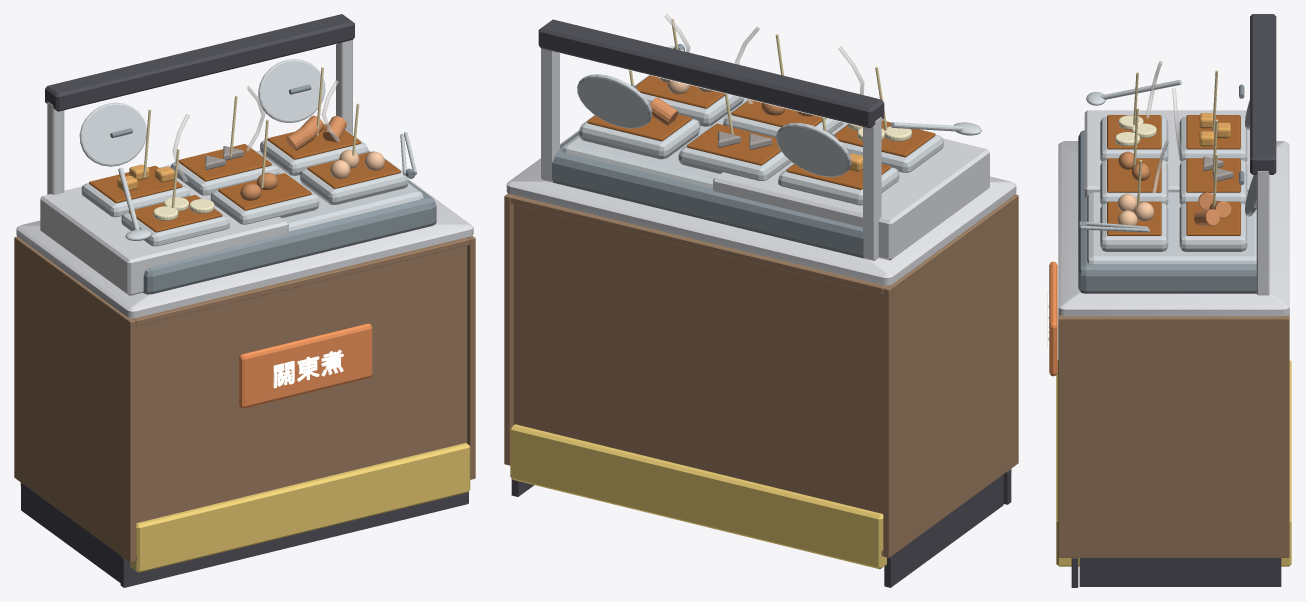
The model's file is oden-hot-food-counter.glb.
The picture shows the model from 3 angles, left to right: view 1: azimuth 30°, elevation 25°; view 2: azimuth 150°, elevation 25°; view 3: azimuth 270°, elevation 25°; orthographic projection. The views are drawn at different scales.
Parts seen in each view (by area): view 1: nacho-and-hot-dog-counter_0, nacho-and-hot-dog-counter_3, nacho-and-hot-dog-counter_2, nacho-and-hot-dog-counter_1, Oden_Well_Base, Oden_Sign_Plate, Oden_Open_Lid_00, Oden_Open_Lid_01, Oden_Well_Rim, Oden_Pan_02, Oden_Pan_01, Oden_Broth_04 (+10 smaller); view 2: nacho-and-hot-dog-counter_0, nacho-and-hot-dog-counter_3, nacho-and-hot-dog-counter_2, nacho-and-hot-dog-counter_1, Oden_Well_Base, Oden_Well_Rim, Oden_Open_Lid_01, Oden_Open_Lid_00, Oden_Pan_05, Oden_Pan_04, Oden_Broth_04, Oden_Pan_03 (+8 smaller); view 3: nacho-and-hot-dog-counter_0, nacho-and-hot-dog-counter_3, nacho-and-hot-dog-counter_1, Oden_Well_Base, Oden_Well_Rim, Oden_Pan_05, Oden_Pan_02, Oden_Broth_04, Oden_Broth_01, nacho-and-hot-dog-counter_2, Oden_Broth_03, Oden_Broth_05 (+10 smaller).
Part boxes in pixels (x1,y1,x2,y2): nacho-and-hot-dog-counter_0: [14, 235, 475, 562]; nacho-and-hot-dog-counter_3: [16, 40, 473, 318]; nacho-and-hot-dog-counter_2: [20, 443, 470, 572]; nacho-and-hot-dog-counter_1: [21, 14, 468, 587]; Oden_Well_Base: [143, 151, 436, 294]; Oden_Sign_Plate: [239, 323, 372, 408]; Oden_Open_Lid_00: [79, 102, 146, 166]; Oden_Open_Lid_01: [258, 59, 325, 122]; Oden_Well_Rim: [257, 150, 423, 231]; Oden_Pan_02: [300, 158, 408, 204]; Oden_Pan_01: [210, 175, 319, 224]; Oden_Broth_04: [178, 144, 271, 181]; nacho-and-hot-dog-counter_0: [504, 193, 1018, 557]; nacho-and-hot-dog-counter_3: [506, 48, 1016, 285]; nacho-and-hot-dog-counter_2: [510, 424, 1011, 569]; nacho-and-hot-dog-counter_1: [511, 19, 1011, 587]; Oden_Well_Base: [552, 132, 863, 258]; Oden_Well_Rim: [562, 98, 747, 188]; Oden_Open_Lid_01: [577, 74, 652, 128]; Oden_Open_Lid_00: [776, 123, 851, 176]; Oden_Pan_05: [579, 115, 700, 159]; Oden_Pan_04: [678, 125, 791, 180]; Oden_Broth_04: [687, 123, 780, 165]; Oden_Pan_03: [778, 163, 899, 205]; nacho-and-hot-dog-counter_0: [1058, 314, 1289, 557]; nacho-and-hot-dog-counter_3: [1058, 110, 1289, 316]; nacho-and-hot-dog-counter_1: [1071, 14, 1281, 587]; Oden_Well_Base: [1078, 130, 1256, 293]; Oden_Well_Rim: [1087, 192, 1256, 264]; Oden_Pan_05: [1179, 203, 1247, 251]; Oden_Pan_02: [1100, 203, 1168, 251]; Oden_Broth_04: [1186, 158, 1240, 192]; Oden_Broth_01: [1107, 158, 1161, 192]; nacho-and-hot-dog-counter_2: [1056, 360, 1291, 566]; Oden_Broth_03: [1186, 115, 1240, 149]; Oden_Broth_05: [1186, 201, 1240, 235].
Size of the model in its own units: 1.2 by 1.4 by 0.739.
